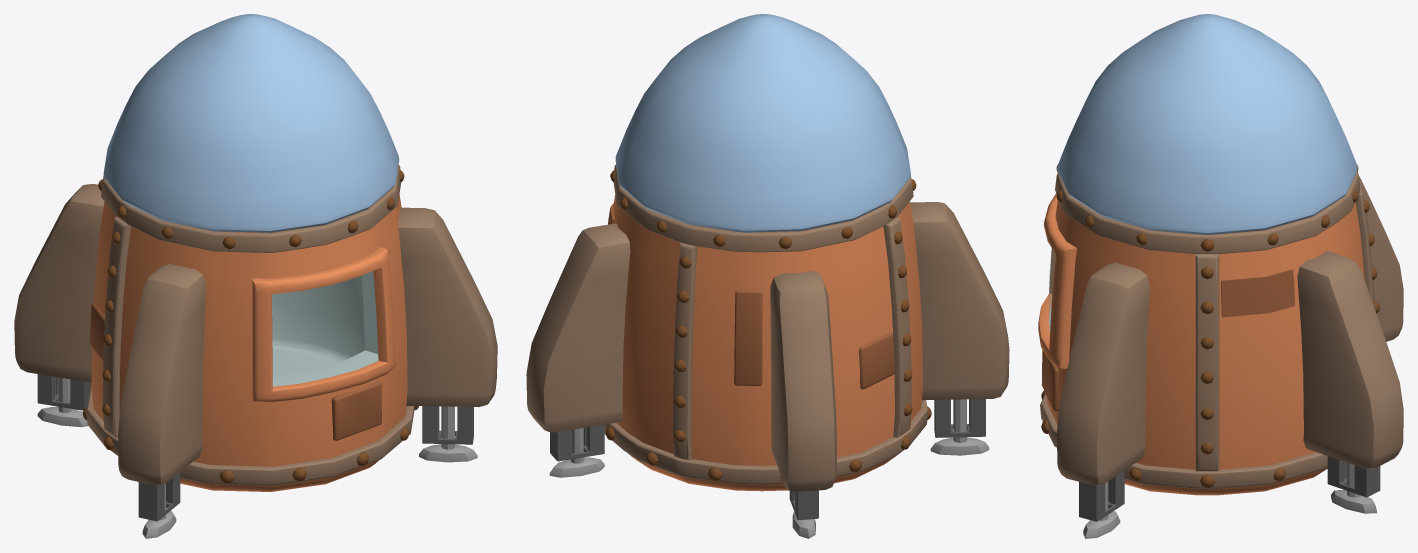
Rendered from m_SpaceShipTexturedRevision 1.fbx.
The picture shows the model from 3 angles, left to right: view 1: azimuth 30°, elevation 25°; view 2: azimuth 150°, elevation 25°; view 3: azimuth 270°, elevation 25°; orthographic projection.
Visible parts, largest first — view 1: Ship, Cylinder, Leg.001, Landing Feet.001; view 2: Ship, Leg.001, Landing Feet.001; view 3: Ship, Leg.001, Landing Feet.001.
Boxes of the visible parts, bbox=[...] form: Ship: bbox=[14, 14, 497, 491]; Cylinder: bbox=[272, 271, 378, 386]; Leg.001: bbox=[37, 374, 473, 521]; Landing Feet.001: bbox=[37, 377, 477, 538]; Ship: bbox=[526, 14, 1009, 491]; Leg.001: bbox=[550, 399, 985, 519]; Landing Feet.001: bbox=[549, 399, 989, 538]; Ship: bbox=[1038, 14, 1403, 495]; Leg.001: bbox=[1079, 456, 1380, 521]; Landing Feet.001: bbox=[1083, 462, 1376, 538].
Bounding box in the file's own units: 522 × 579 × 436.
